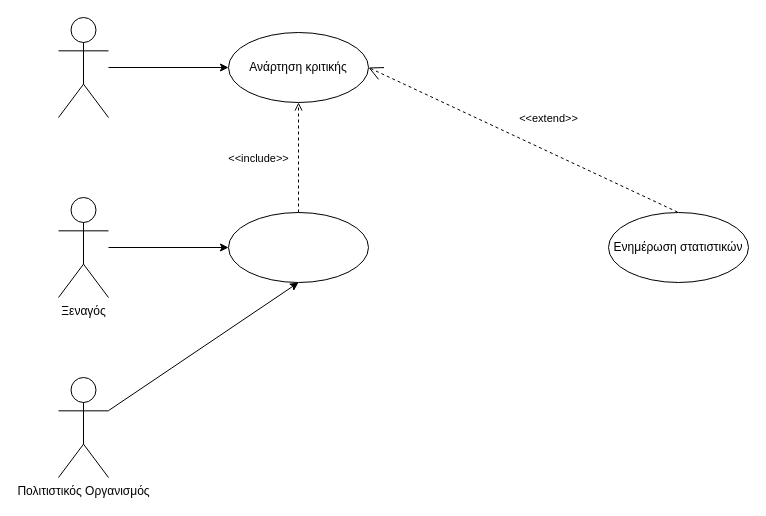
This 766x516 diagram has some shape labels left out. The shapes that lost their labels are listed below. From the top down, each one's box as (x1, y1, x2, y2) in pixels, then its label:
(58, 16, 108, 118): Χρήστης
(228, 212, 368, 282): Έλεγχος κριτικών
